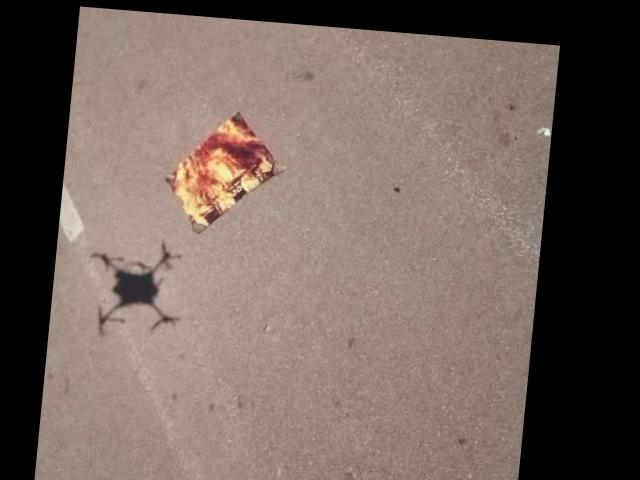fire-poster: (162, 101, 294, 236)
